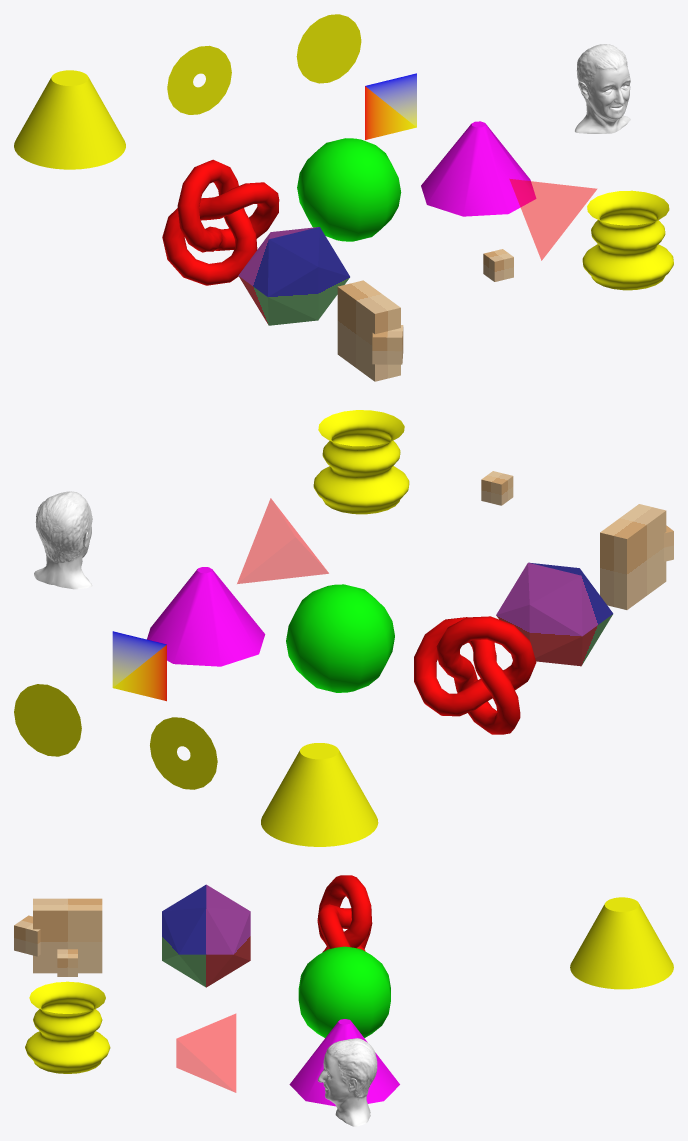
File: testscene.gltf
3 renders of one model, top to bottom at view 1: azimuth 30°, elevation 25°; view 2: azimuth 150°, elevation 25°; view 3: azimuth 270°, elevation 25°, orthographic. The views are drawn at different scales.
Parts seen in each view (by area): view 1: Cylinder (×2), Sphere, Icosahedron, object 12, object 13, Cube, Mesh_Mesh_head_geo.001_lambert2SG.001, Tetrahedron, object 10, object 11, Custom buffered truncated, SubCube (+1 smaller); view 2: Cylinder (×2), Sphere, object 12, object 13, Icosahedron, Cube, Mesh_Mesh_head_geo.001_lambert2SG.001, Tetrahedron, object 10, object 11, Custom buffered truncated, Cube in group; view 3: Icosahedron, Sphere, object 12, object 13, Cylinder (×2), Cube, Mesh_Mesh_head_geo.001_lambert2SG.001, Tetrahedron, SubCube, Cube in group.
Boxes of the visible parts, box(x1,y1,x2,y2) form: Cylinder (×2): box(162, 121, 536, 285); Sphere: box(297, 138, 401, 241); Icosahedron: box(238, 227, 349, 325); object 12: box(14, 70, 125, 169); object 13: box(582, 190, 673, 290); Cube: box(337, 280, 400, 381); Mesh_Mesh_head_geo.001_lambert2SG.001: box(575, 44, 630, 133); Tetrahedron: box(509, 179, 596, 260); object 10: box(296, 14, 361, 83); object 11: box(167, 45, 231, 114); Custom buffered truncated: box(365, 73, 416, 139); SubCube: box(372, 325, 403, 364); Cylinder (×2): box(147, 567, 536, 734); Sphere: box(286, 584, 394, 692); object 12: box(261, 743, 378, 846); object 13: box(313, 410, 409, 514); Icosahedron: box(496, 562, 613, 666); Cube: box(600, 504, 666, 609); Mesh_Mesh_head_geo.001_lambert2SG.001: box(34, 491, 92, 589); Tetrahedron: box(237, 498, 328, 583); object 10: box(14, 684, 81, 756); object 11: box(150, 717, 217, 789); Custom buffered truncated: box(112, 631, 166, 701); Cube in group: box(481, 471, 513, 505); Icosahedron: box(162, 884, 250, 987); Sphere: box(298, 946, 390, 1037); object 12: box(570, 897, 673, 989); object 13: box(25, 981, 110, 1073); Cylinder (×2): box(289, 875, 399, 1106); Cube: box(33, 898, 102, 973); Mesh_Mesh_head_geo.001_lambert2SG.001: box(317, 1038, 377, 1126); Tetrahedron: box(176, 1013, 236, 1092); SubCube: box(14, 915, 40, 956); Cube in group: box(57, 949, 77, 976).
Bounding box in the file's own units: 717 × 198 × 953.
Materials: 9 (3 with a texture image).
